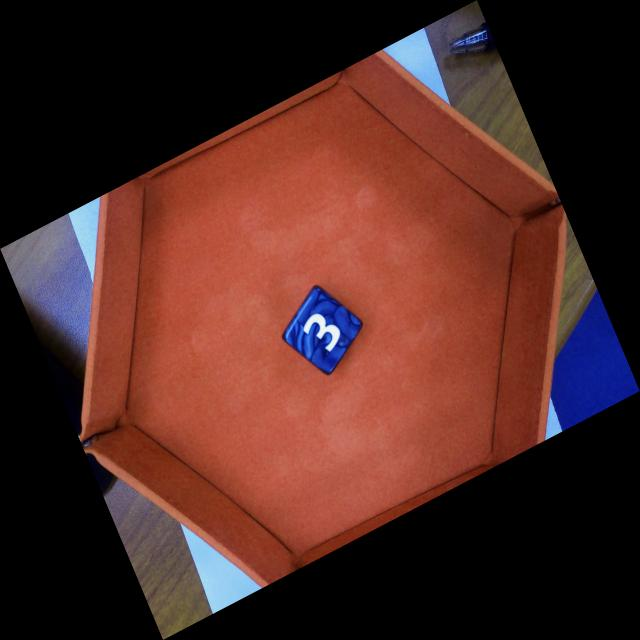dice: (281, 284, 364, 376)
